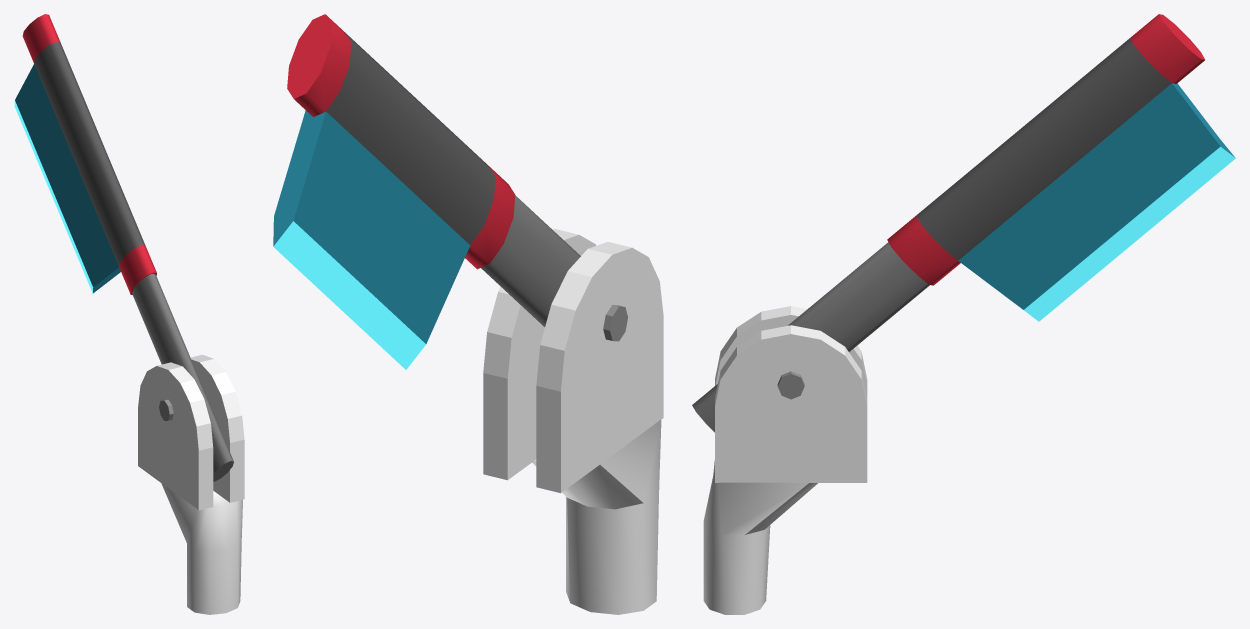
File: Big_Knifes.fbx
3 views of the same model, side by side, from view 1: azimuth 30°, elevation 25°; view 2: azimuth 150°, elevation 25°; view 3: azimuth 270°, elevation 25° (orthographic). The views are drawn at different scales.
Parts seen in each view (by area): view 1: Knife, Pillar; view 2: Knife, Pillar; view 3: Knife, Pillar.
Boxes of the visible parts, <box> form: Knife: <box>14,14,233,481</box>; Pillar: <box>138,354,244,614</box>; Knife: <box>273,14,580,369</box>; Pillar: <box>483,229,663,614</box>; Knife: <box>692,14,1235,432</box>; Pillar: <box>703,306,867,614</box>.
Size of the model in its own units: 68.95 by 571 by 480.
